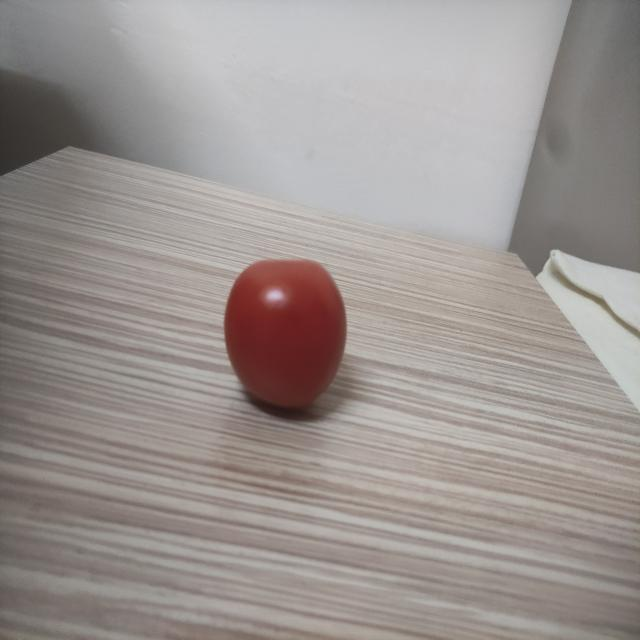kirmizi: (215, 245, 368, 411)
